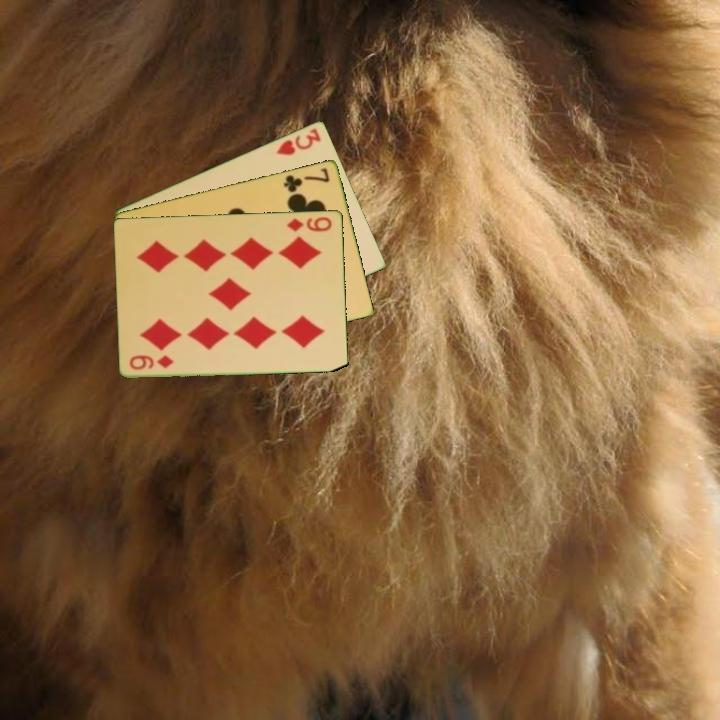3h: (273, 125, 324, 158)
7c: (280, 164, 333, 195)
9d: (126, 351, 177, 373), (284, 213, 335, 234)
